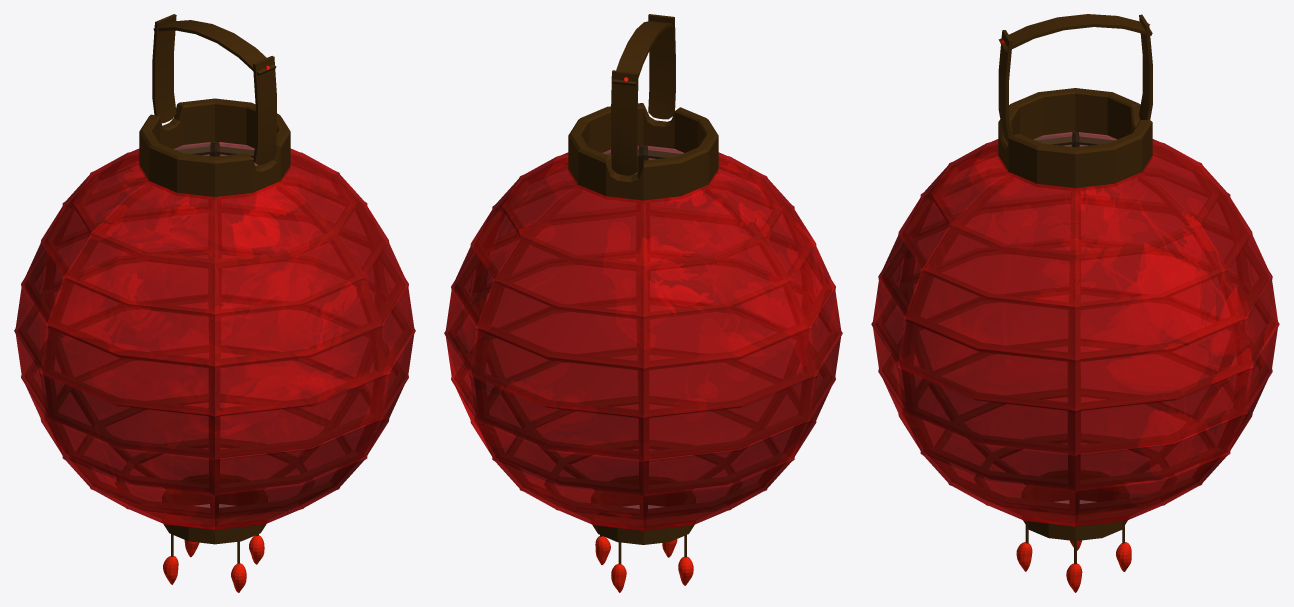
The model's file is Lantern.fbx.
The picture shows the model from 3 angles, left to right: view 1: azimuth 30°, elevation 25°; view 2: azimuth 150°, elevation 25°; view 3: azimuth 270°, elevation 25°; orthographic projection. The views are drawn at different scales.
Parts seen in each view (by area): view 1: paper_outer, metal_skele, top1, bottom, pCube2, pCube1, pCube3; view 2: paper_outer, metal_skele, top1, bottom, pCube1, pCube2, pCube3; view 3: paper_outer, metal_skele, top1, bottom, pCube3, pCube2, pCube1.
Part boxes in pixels (x1,y1,x2,y2): paper_outer: (14, 142, 415, 530); metal_skele: (18, 141, 411, 526); top1: (139, 98, 290, 199); bottom: (162, 474, 267, 544); pCube2: (253, 56, 276, 165); pCube1: (152, 14, 176, 123); pCube3: (153, 20, 276, 75); paper_outer: (444, 146, 842, 531); metal_skele: (448, 145, 838, 526); top1: (568, 103, 718, 202); bottom: (591, 475, 695, 544); pCube1: (611, 70, 638, 175); pCube2: (648, 14, 675, 119); pCube3: (612, 21, 672, 85); paper_outer: (871, 132, 1279, 526); metal_skele: (875, 131, 1275, 522); top1: (998, 88, 1152, 190); bottom: (1022, 470, 1128, 540); pCube3: (998, 14, 1152, 51); pCube2: (998, 30, 1012, 142); pCube1: (1139, 14, 1152, 119).
Bounding box in the file's own units: 6.07 × 8.95 × 6.01.
